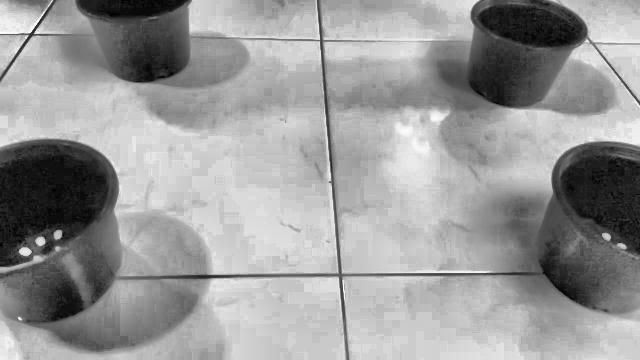pot: (0, 139, 121, 322), (536, 142, 640, 314), (467, 0, 587, 107), (76, 0, 191, 82)
